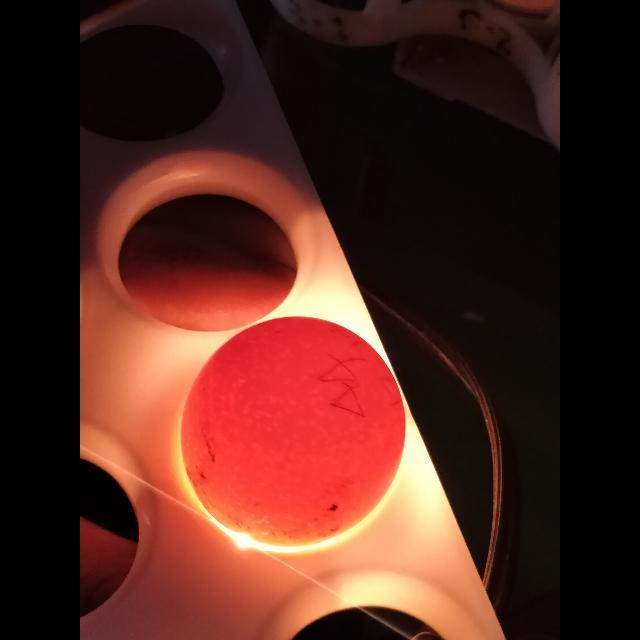Infertile: (182, 316, 404, 554)
